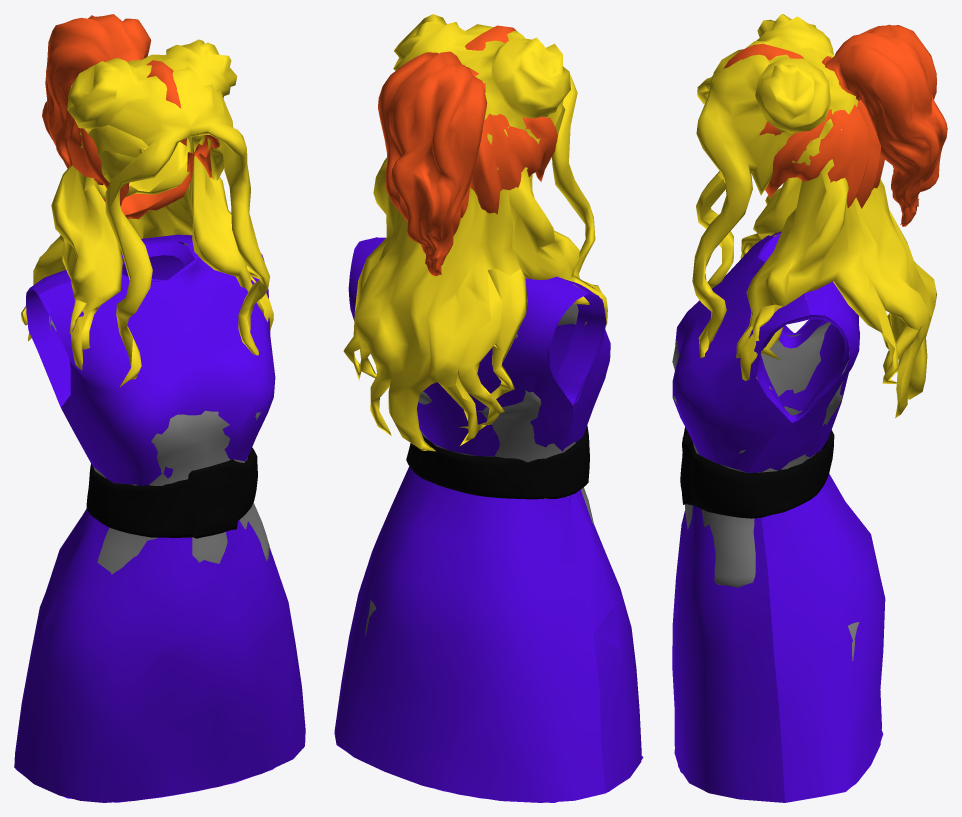
File: Kıyafetler Woman.FBX
3 renders of one model, left to right at view 1: azimuth 30°, elevation 25°; view 2: azimuth 150°, elevation 25°; view 3: azimuth 270°, elevation 25°, orthographic. The views are drawn at different scales.
Parts seen in each view (by area): view 1: Dresss, Hair, Hair 2, Top; view 2: Dresss, Hair, Hair 2, Top; view 3: Dresss, Hair, Hair 2, Top.
Part boxes in pixels (bbox=[...]): Dresss: bbox=[14, 234, 305, 802]; Hair: bbox=[21, 39, 273, 387]; Hair 2: bbox=[42, 14, 225, 219]; Top: bbox=[49, 243, 271, 574]; Dresss: bbox=[334, 237, 643, 802]; Hair: bbox=[343, 14, 607, 451]; Hair 2: bbox=[378, 25, 557, 276]; Top: bbox=[418, 303, 593, 524]; Dresss: bbox=[672, 231, 885, 802]; Hair: bbox=[692, 14, 936, 417]; Hair 2: bbox=[723, 24, 947, 226]; Top: bbox=[672, 322, 849, 587].
Bounding box in the file's own units: 16.52 × 41.86 × 14.74.
